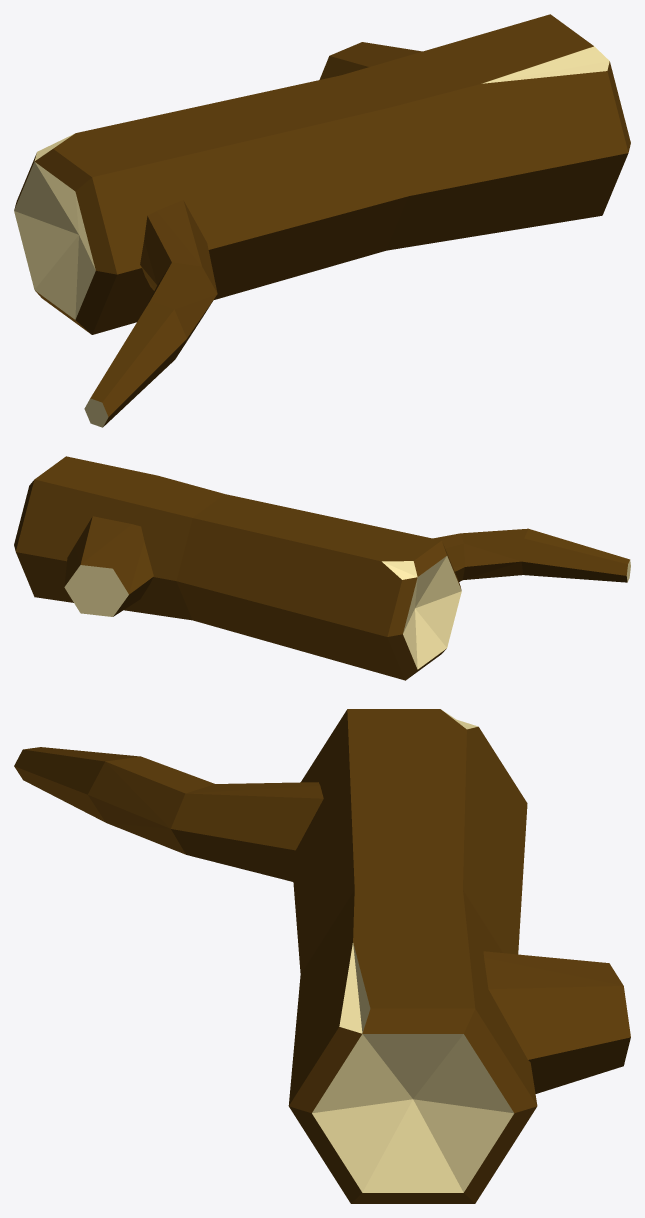
The model's file is LogB.fbx.
3 views of the same model, one above another, from view 1: azimuth 30°, elevation 25°; view 2: azimuth 150°, elevation 25°; view 3: azimuth 270°, elevation 25° (orthographic). The views are drawn at different scales.
Parts seen in each view (by area): view 1: SketchUp.007; view 2: SketchUp.007; view 3: SketchUp.007.
Boxes of the visible parts, x1=… form: SketchUp.007: x1=14, y1=14, x2=630, y2=427; SketchUp.007: x1=14, y1=456, x2=630, y2=680; SketchUp.007: x1=14, y1=709, x2=630, y2=1203.
Size of the model in its own units: 298 by 71.23 by 203.
